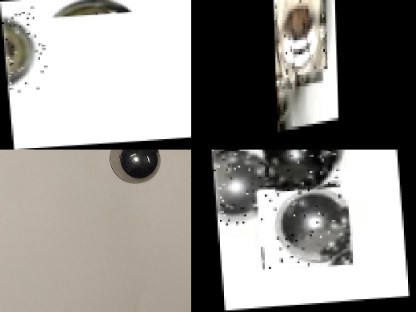ironball: (256, 184, 351, 269), (273, 0, 324, 86), (211, 149, 267, 227), (0, 5, 47, 95), (266, 149, 343, 188), (107, 148, 163, 183), (38, 0, 141, 17)
